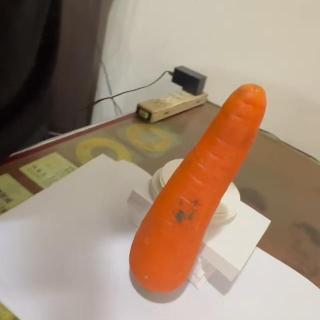carrot: (128, 83, 267, 297)
